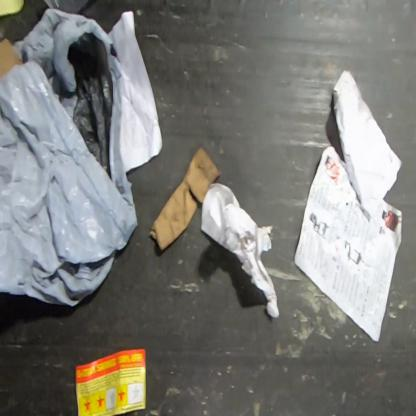cardboard: (147, 145, 222, 252), (0, 36, 24, 79), (0, 0, 25, 20)
soft_plastic: (0, 7, 139, 308)
